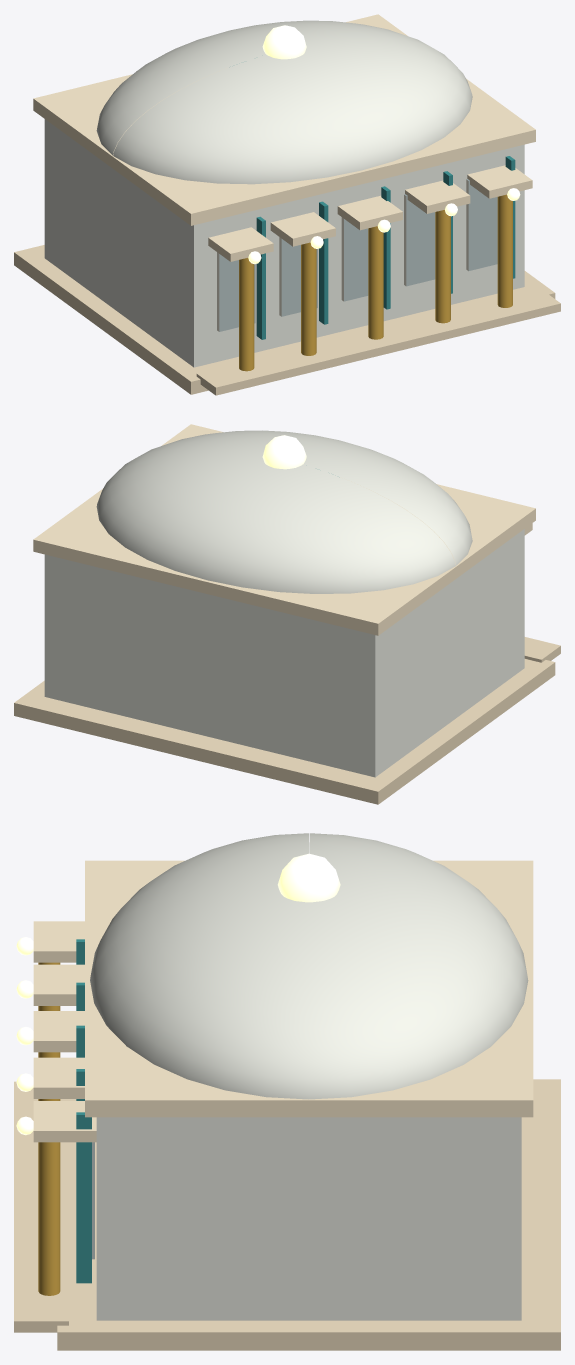
Rendered from realm.glb.
3 views of the same model, one above another, from view 1: azimuth 30°, elevation 25°; view 2: azimuth 150°, elevation 25°; view 3: azimuth 270°, elevation 25° (orthographic). The views are drawn at different scales.
Size of the model in its own units: 3.8 by 2.58 by 3.48.
